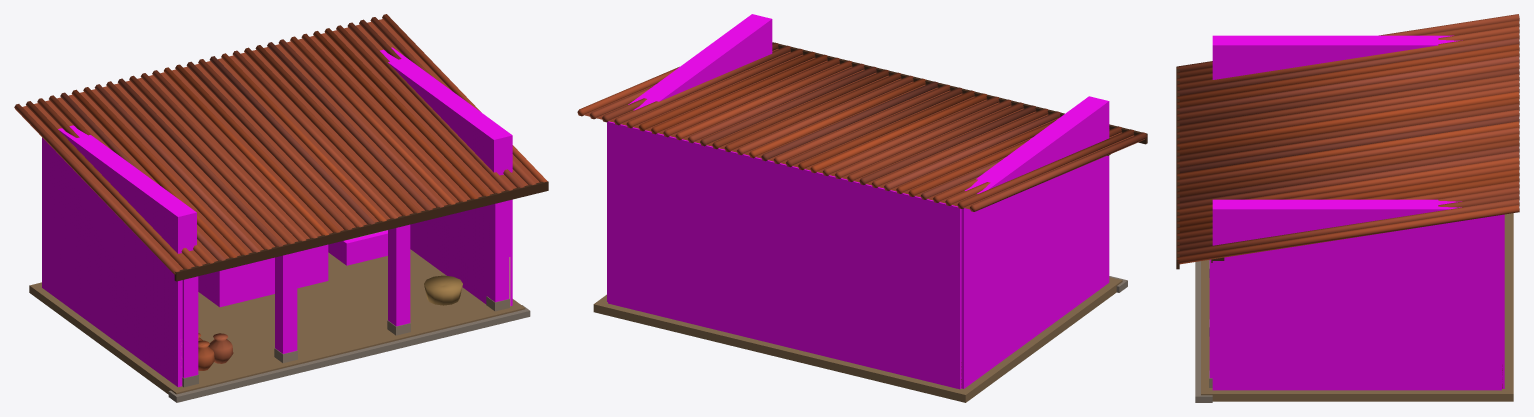
Rendered from ENV_Workshop_A.glb.
3 views of the same model, side by side, from view 1: azimuth 30°, elevation 25°; view 2: azimuth 150°, elevation 25°; view 3: azimuth 270°, elevation 25° (orthographic). The views are drawn at different scales.
Parts seen in each view (by area): view 1: ENV_Workshop_A_Mesh, COL_Side_-1, COL_Side_1, COL_Bench, COL_Post_-1.2, COL_Post_3.3, COL_Post_1.2, COL_Post_-3.3, COL_Trough; view 2: COL_Back, ENV_Workshop_A_Mesh, COL_Side_-1, COL_Side_1; view 3: ENV_Workshop_A_Mesh, COL_Side_1, COL_Side_-1, COL_Back, COL_Post_3.3.
Part boxes in pixels (x1,y1,x2,y2): ENV_Workshop_A_Mesh: (14, 14, 548, 402); COL_Side_-1: (42, 125, 196, 387); COL_Side_1: (380, 47, 512, 305); COL_Bench: (198, 244, 328, 307); COL_Post_-1.2: (275, 252, 297, 353); COL_Post_3.3: (487, 200, 509, 302); COL_Post_1.2: (388, 224, 410, 326); COL_Post_-3.3: (182, 276, 198, 378); COL_Trough: (328, 230, 387, 265); COL_Back: (608, 121, 961, 389); ENV_Workshop_A_Mesh: (577, 42, 1147, 402); COL_Side_-1: (961, 96, 1109, 388); COL_Side_1: (607, 14, 772, 301); ENV_Workshop_A_Mesh: (1176, 14, 1519, 402); COL_Side_1: (1212, 199, 1501, 390); COL_Side_-1: (1212, 35, 1462, 79); COL_Back: (1502, 214, 1504, 388); COL_Post_3.3: (1209, 259, 1212, 378).
Bounding box in the file's own units: 7.93 × 3.84 × 5.94.
